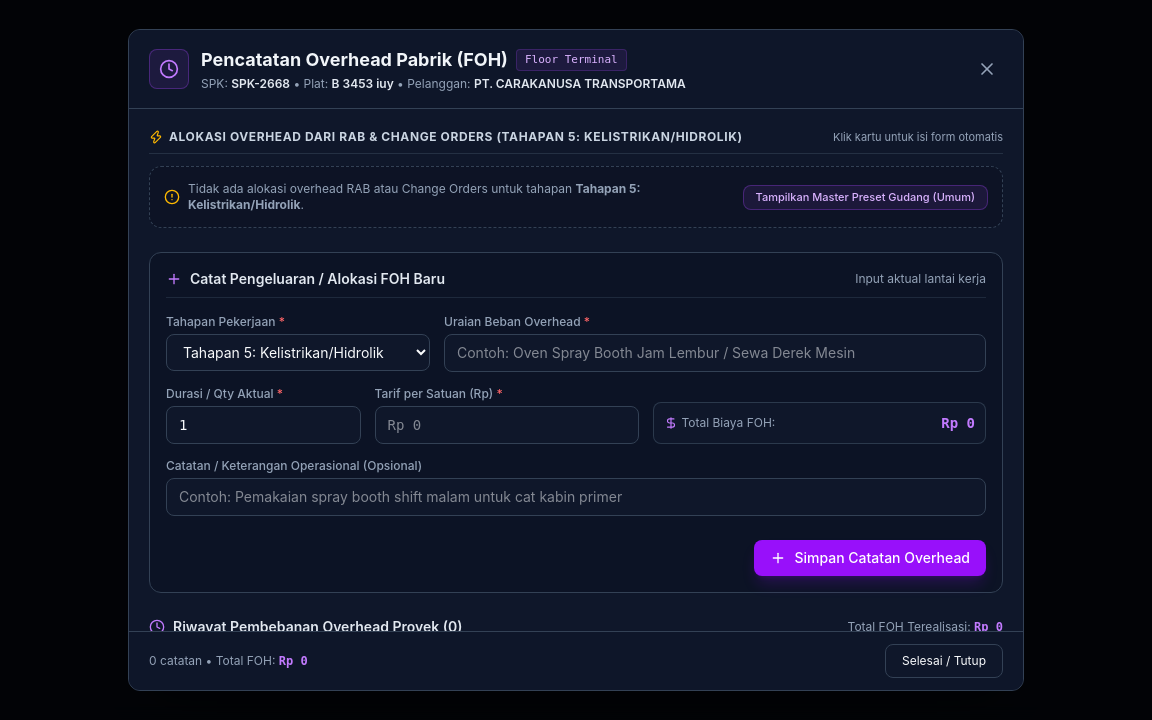
Test: Component: SpkOverheadModal (Mandor Floor Terminal Overhead Logging) › shows fallback button when stage has no RAB overhead and toggles master presets
Expected: the text "Tidak ada alokasi overhead RAB atau Change Orders untuk tahapan" is shown, [188,181,576,196]
# Click toggle
Click the button "Tampilkan Master Preset Gudang (Umum)".
click(865, 197)  # box [742,185,988,210]
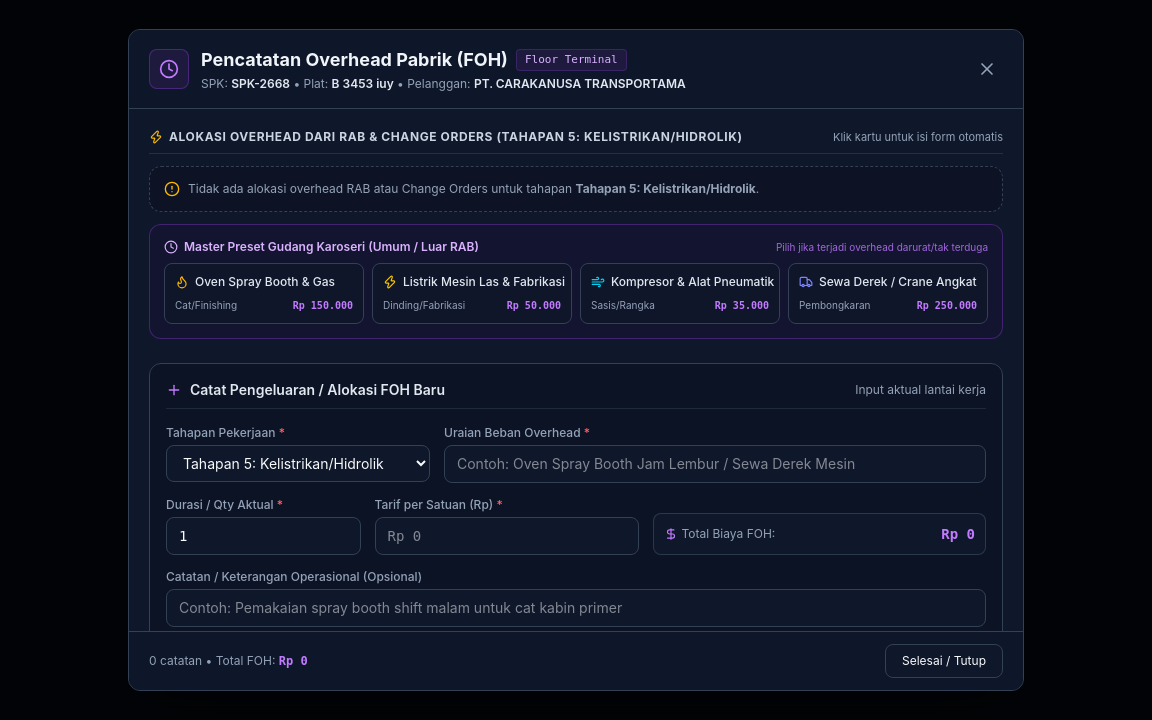
Now the text "Oven Spray Booth & Gas" is shown, box [195,274,335,290]
Now the text "Listrik Mesin Las & Fabrikasi" is shown, box [403,274,565,290]
Now the text "Kompresor & Alat Pneumatik" is shown, box [611,274,774,290]
# Clicking master preset applies general preset without rab_item_id
Click the text "Sewa Derek / Crane Angkat".
click(898, 282)  # box [819,274,977,290]
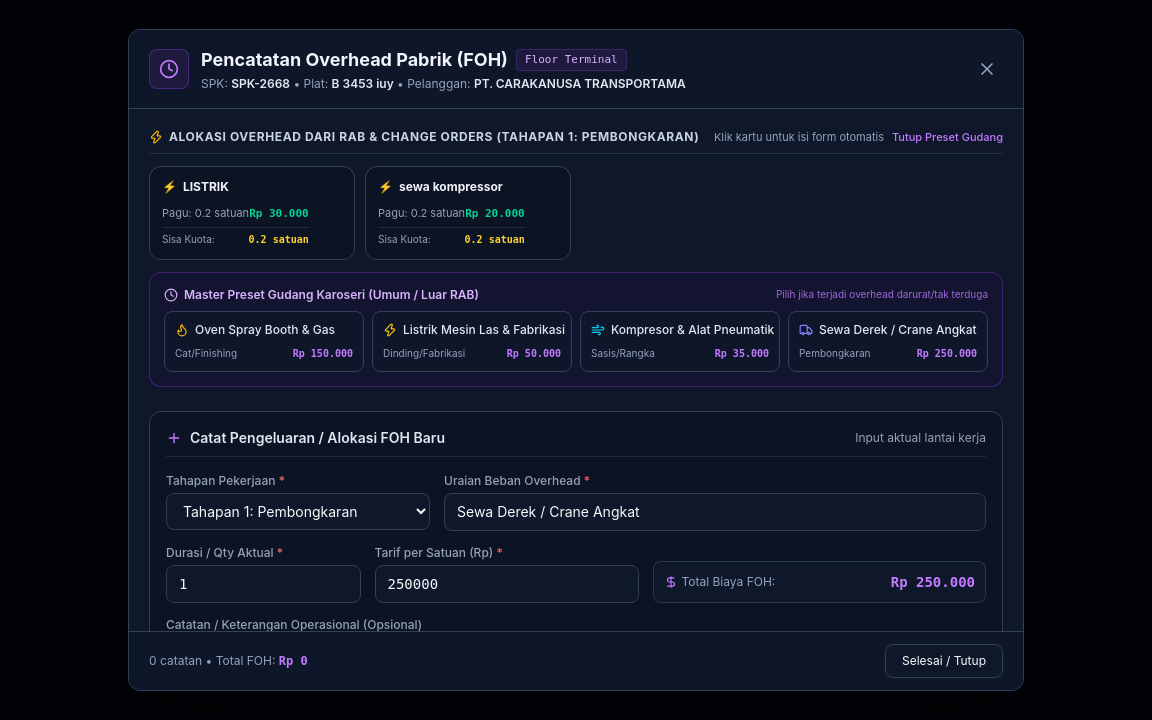
Now the field with placeholder "Contoh: Oven Spray Booth Jam Lembur / Sewa Derek Mesin" holds "Sewa Derek / Crane Angkat", box [444,493,986,531]
